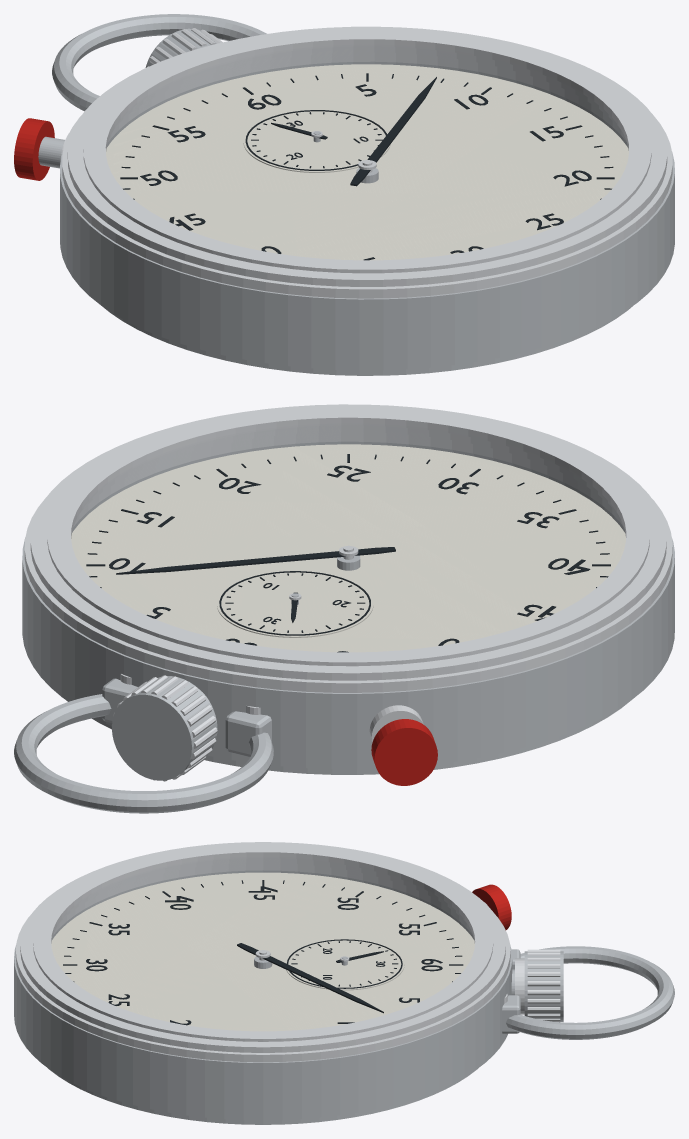
File: A-NEW-20261026-STOPWATCH-001_LOD1_R3.glb
3 views of the same model, one above another, from view 1: azimuth 30°, elevation 25°; view 2: azimuth 150°, elevation 25°; view 3: azimuth 270°, elevation 25° (orthographic). The views are drawn at different scales.
Parts seen in each view (by area): view 1: pale main dial, case perimeter wall, crystal retaining lip, bezel upper rim, bezel lower step, subdial backing, closed suspension loop, closed rear shell, red mushroom reset button, long seconds hand, reset metal neck, winding crown (+1 smaller); view 2: pale main dial, case perimeter wall, crystal retaining lip, bezel upper rim, bezel lower step, closed suspension loop, subdial backing, winding crown, red mushroom reset button, closed rear shell, long seconds hand, loop anchor lug (+3 smaller); view 3: pale main dial, case perimeter wall, crystal retaining lip, bezel upper rim, bezel lower step, closed suspension loop, subdial backing, closed rear shell, winding crown, red mushroom reset button, long seconds hand, loop anchor lug.001 (+2 smaller).
Part boxes in pixels (x1=…): pale main dial: x1=106, y1=64, x2=628, y2=260; case perimeter wall: x1=60, y1=61, x2=674, y2=370; crystal retaining lip: x1=83, y1=29, x2=651, y2=273; bezel upper rim: x1=67, y1=26, x2=667, y2=286; bezel lower step: x1=62, y1=52, x2=672, y2=298; subdial backing: x1=243, y1=109, x2=390, y2=172; closed suspension loop: x1=52, y1=14, x2=266, y2=111; closed rear shell: x1=103, y1=306, x2=632, y2=375; red mushroom reset button: x1=14, y1=118, x2=54, y2=180; long seconds hand: x1=350, y1=77, x2=436, y2=186; reset metal neck: x1=38, y1=136, x2=64, y2=168; winding crown: x1=145, y1=28, x2=216, y2=67; pale main dial: x1=71, y1=444, x2=625, y2=652; case perimeter wall: x1=22, y1=441, x2=674, y2=769; crystal retaining lip: x1=47, y1=407, x2=649, y2=666; bezel upper rim: x1=30, y1=404, x2=666, y2=680; bezel lower step: x1=24, y1=432, x2=672, y2=692; closed suspension loop: x1=14, y1=694, x2=273, y2=813; subdial backing: x1=217, y1=570, x2=373, y2=637; winding crown: x1=112, y1=676, x2=217, y2=780; red mushroom reset button: x1=371, y1=719, x2=437, y2=785; closed rear shell: x1=67, y1=701, x2=629, y2=774; long seconds hand: x1=116, y1=547, x2=395, y2=574; loop anchor lug: x1=225, y1=711, x2=271, y2=756; pale main dial: x1=51, y1=872, x2=474, y2=1031; case perimeter wall: x1=14, y1=870, x2=512, y2=1120; crystal retaining lip: x1=33, y1=844, x2=493, y2=1041; bezel upper rim: x1=20, y1=842, x2=505, y2=1052; bezel lower step: x1=15, y1=863, x2=510, y2=1062; closed suspension loop: x1=506, y1=946, x2=674, y2=1039; subdial backing: x1=285, y1=939, x2=404, y2=990; closed rear shell: x1=48, y1=1068, x2=478, y2=1124; winding crown: x1=524, y1=951, x2=563, y2=1021; red mushroom reset button: x1=472, y1=884, x2=511, y2=930; long seconds hand: x1=237, y1=943, x2=383, y2=1013; loop anchor lug.001: x1=502, y1=995, x2=520, y2=1033.
Bounding box in the file's own units: 0.055 × 0.01 × 0.0729.
